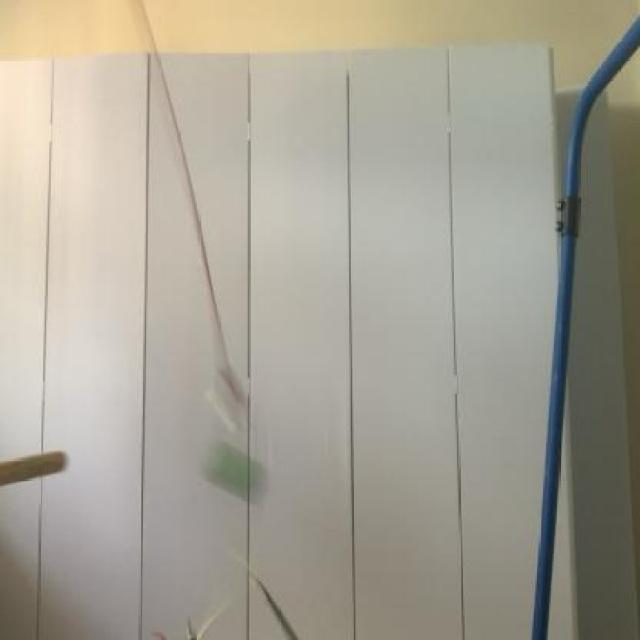baseball: (198, 430, 277, 498)
